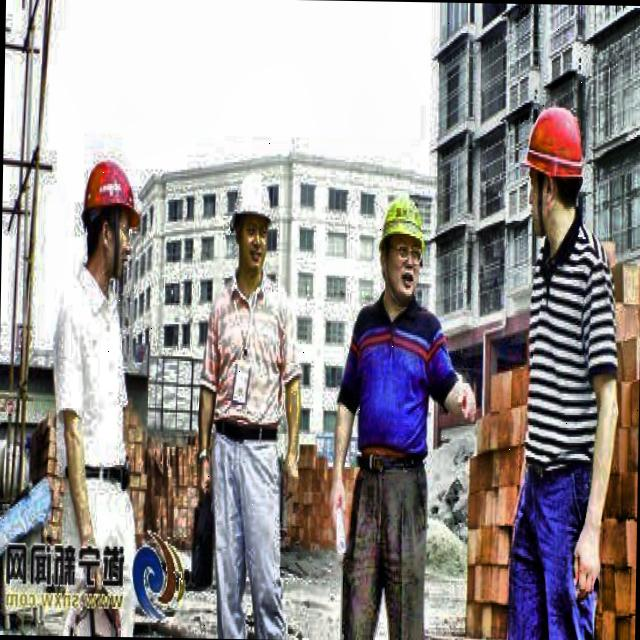helmet: (513, 87, 600, 260), (75, 148, 148, 285), (368, 181, 432, 318), (228, 170, 280, 280)
